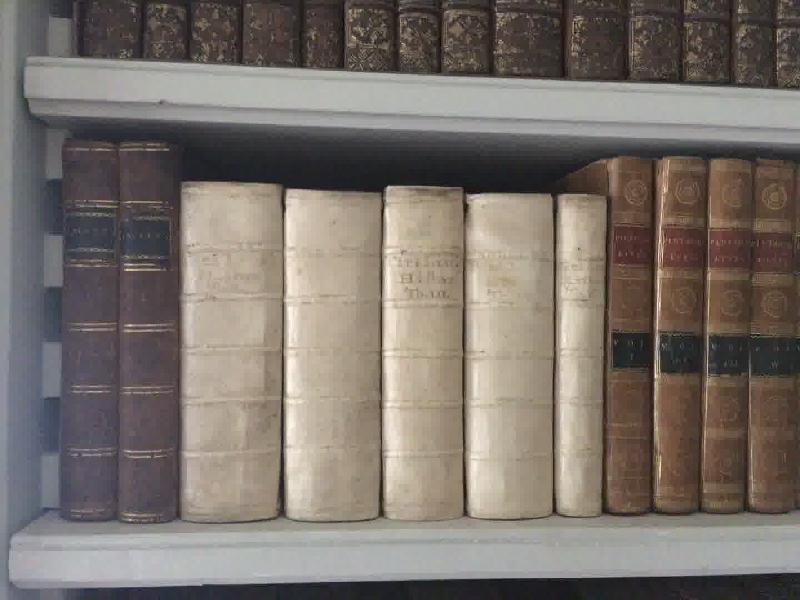Kk4-1_2: (58, 132, 178, 529)
Kk4-3_7: (180, 175, 600, 522)
Kk4-8_13: (609, 156, 800, 516)
